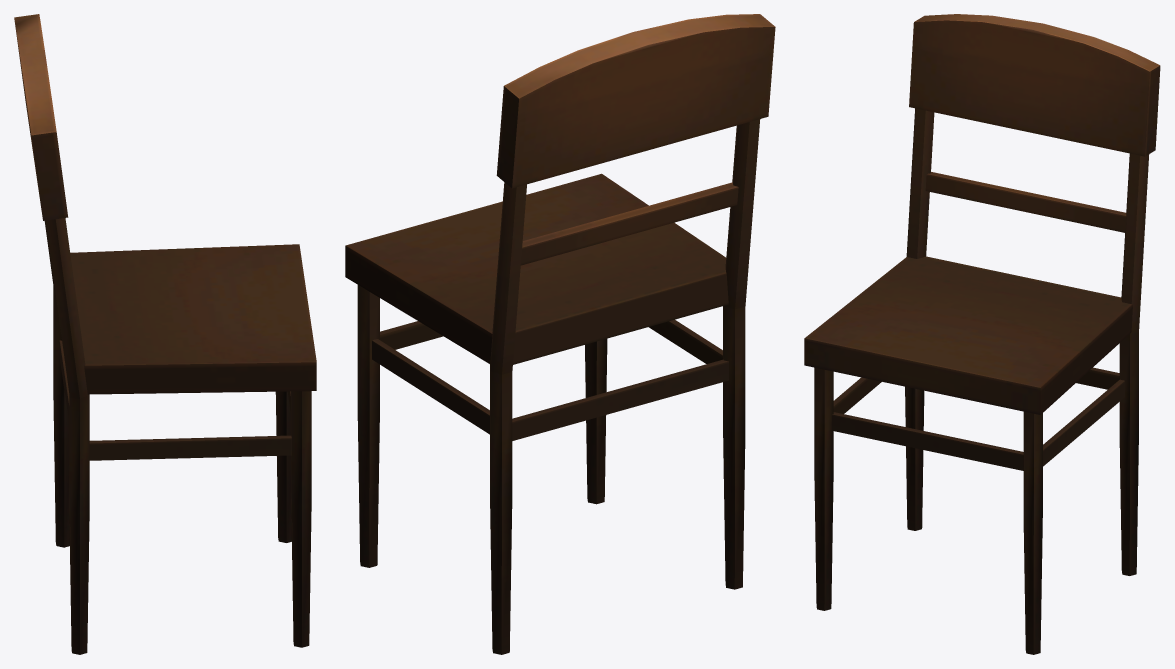
The model's file is cadeira_madeira.glb.
The picture shows the model from 3 angles, left to right: view 1: azimuth 30°, elevation 25°; view 2: azimuth 150°, elevation 25°; view 3: azimuth 270°, elevation 25°; orthographic projection. The views are drawn at different scales.
Visible parts, largest first — view 1: Cube.001; view 2: Cube.001; view 3: Cube.001.
Part boxes in pixels (x1,y1,x2,y2): Cube.001: [14, 14, 316, 654]; Cube.001: [345, 14, 775, 654]; Cube.001: [804, 14, 1160, 654].
Bounding box in the file's own units: 9.21 × 14.48 × 9.14.
1 material, 1 textured.
